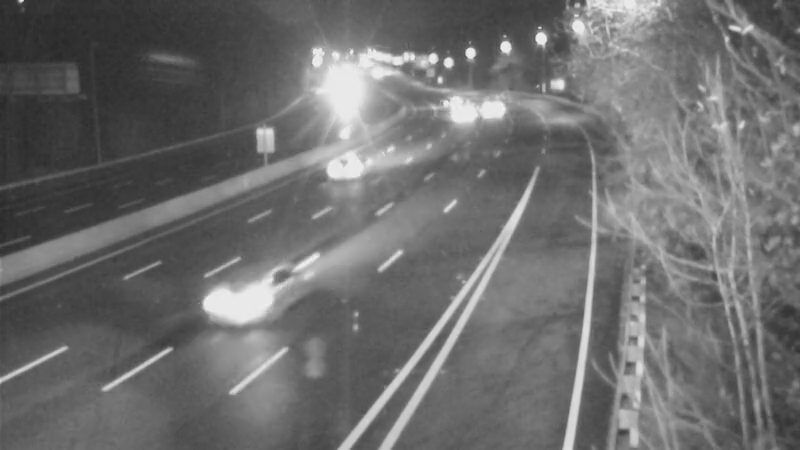vehicle: (185, 248, 295, 358), (296, 127, 376, 207), (425, 74, 475, 124), (464, 90, 514, 140), (435, 88, 485, 138)
